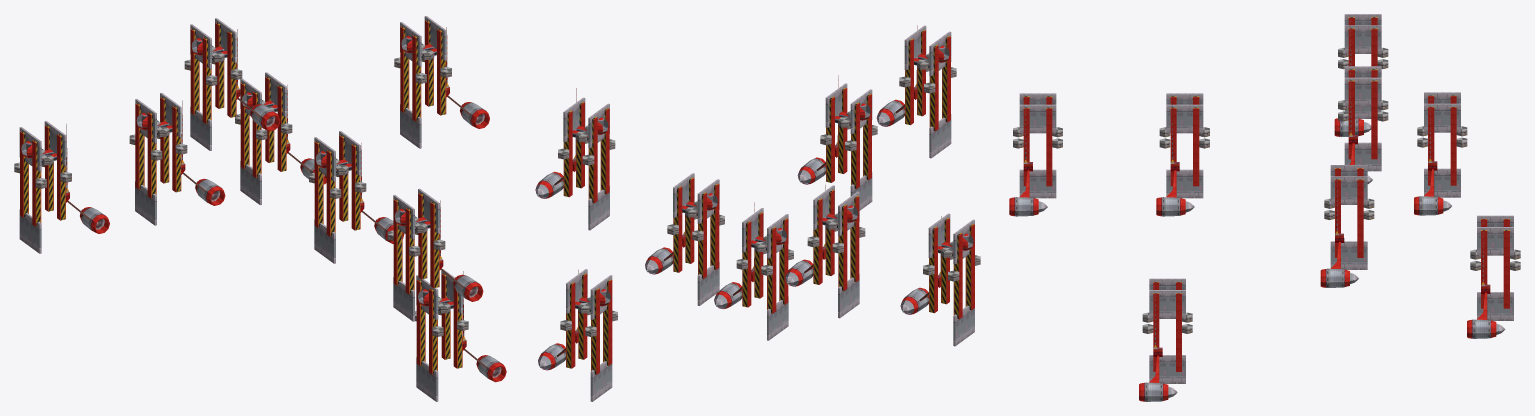
The picture shows the model from 3 angles, left to right: view 1: azimuth 30°, elevation 25°; view 2: azimuth 150°, elevation 25°; view 3: azimuth 270°, elevation 25°; orthographic projection. The views are drawn at different scales.
Visible parts, largest first — view 1: s13_on_21_0, s13_on_21_9, s13_on_21_3, s13_on_21_10, s13_on_21_2, s13_on_21_11, s13_on_21_12, s13_on_21_5, s13_on_21_1, s13_on_21_6, s13_on_21_4; view 2: s13_on_21_0, s13_on_21_9, s13_on_21_3, s13_on_21_10, s13_on_21_2, s13_on_21_11, s13_on_21_12, s13_on_21_5; view 3: s13_on_21_3, s13_on_21_0, s13_on_21_10, s13_on_21_2, s13_on_21_11, s13_on_21_5, s13_on_21_6, s13_on_21_8.
Boxes of the visible parts, x1,y1,x2,y2 form: s13_on_21_0: [20, 21, 506, 382]; s13_on_21_9: [20, 20, 462, 374]; s13_on_21_3: [19, 16, 479, 401]; s13_on_21_10: [14, 16, 468, 371]; s13_on_21_2: [81, 102, 500, 378]; s13_on_21_11: [14, 54, 468, 336]; s13_on_21_12: [21, 37, 453, 311]; s13_on_21_5: [14, 46, 468, 340]; s13_on_21_1: [67, 95, 486, 368]; s13_on_21_6: [66, 27, 464, 336]; s13_on_21_4: [95, 114, 501, 377]; s13_on_21_0: [535, 30, 974, 374]; s13_on_21_9: [563, 30, 974, 374]; s13_on_21_3: [536, 26, 974, 401]; s13_on_21_10: [558, 25, 980, 371]; s13_on_21_2: [539, 101, 928, 366]; s13_on_21_11: [558, 64, 980, 336]; s13_on_21_12: [572, 47, 973, 311]; s13_on_21_5: [558, 56, 980, 332]; s13_on_21_3: [1019, 15, 1513, 397]; s13_on_21_0: [1009, 18, 1509, 401]; s13_on_21_10: [1013, 14, 1520, 355]; s13_on_21_2: [1016, 118, 1489, 401]; s13_on_21_11: [1013, 53, 1520, 333]; s13_on_21_5: [1013, 51, 1520, 349]; s13_on_21_6: [1025, 16, 1483, 344]; s13_on_21_8: [1023, 137, 1490, 356].
Bounding box in the file's own units: 2334 × 1435 × 2489.
13 materials, 13 textured.
